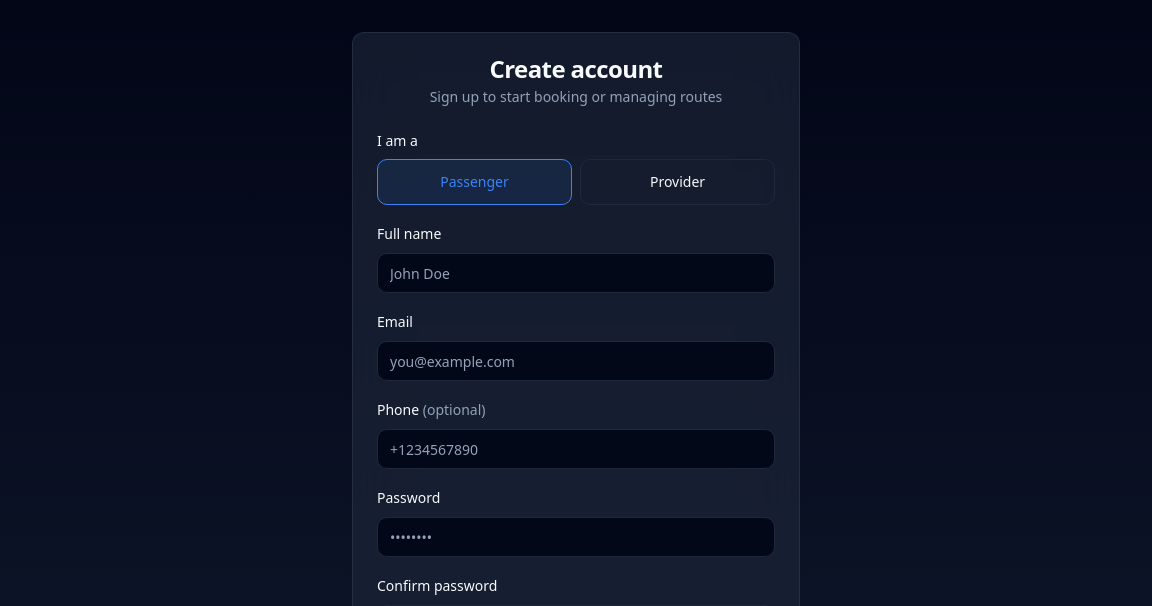
RegisterPage › password strength indicator › shows Weak for a short lowercase-only password
Type "abc" into the password field labelled "Password". click: (576,537)
box: 377,517 -> 775,557
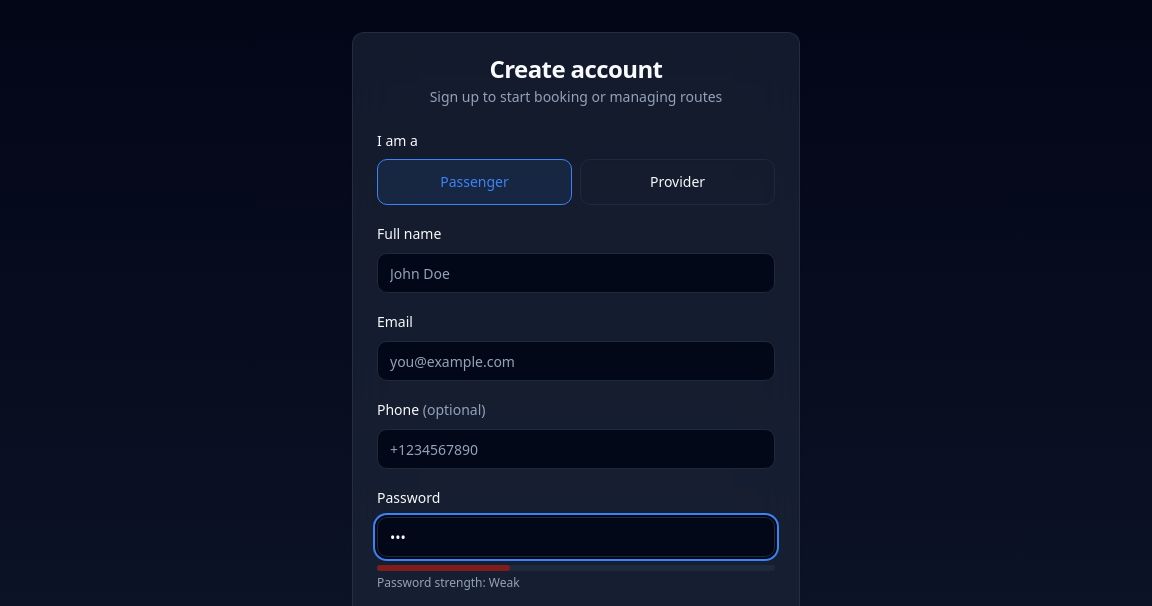
expect the text with test id "strength-label" reads "Weak": met, box 489,574 -> 520,591
